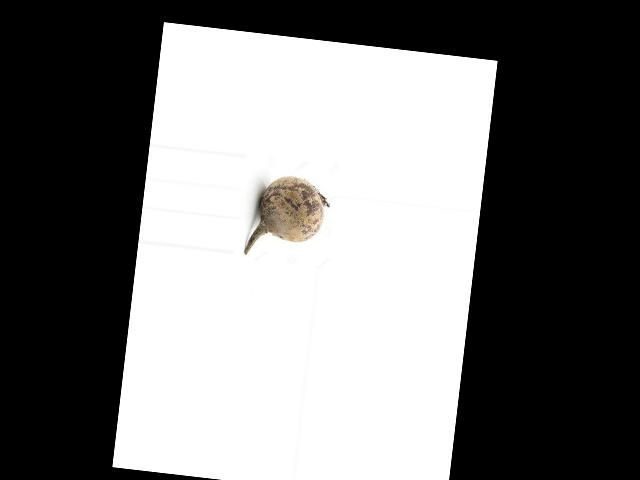beet: (244, 171, 331, 262)
